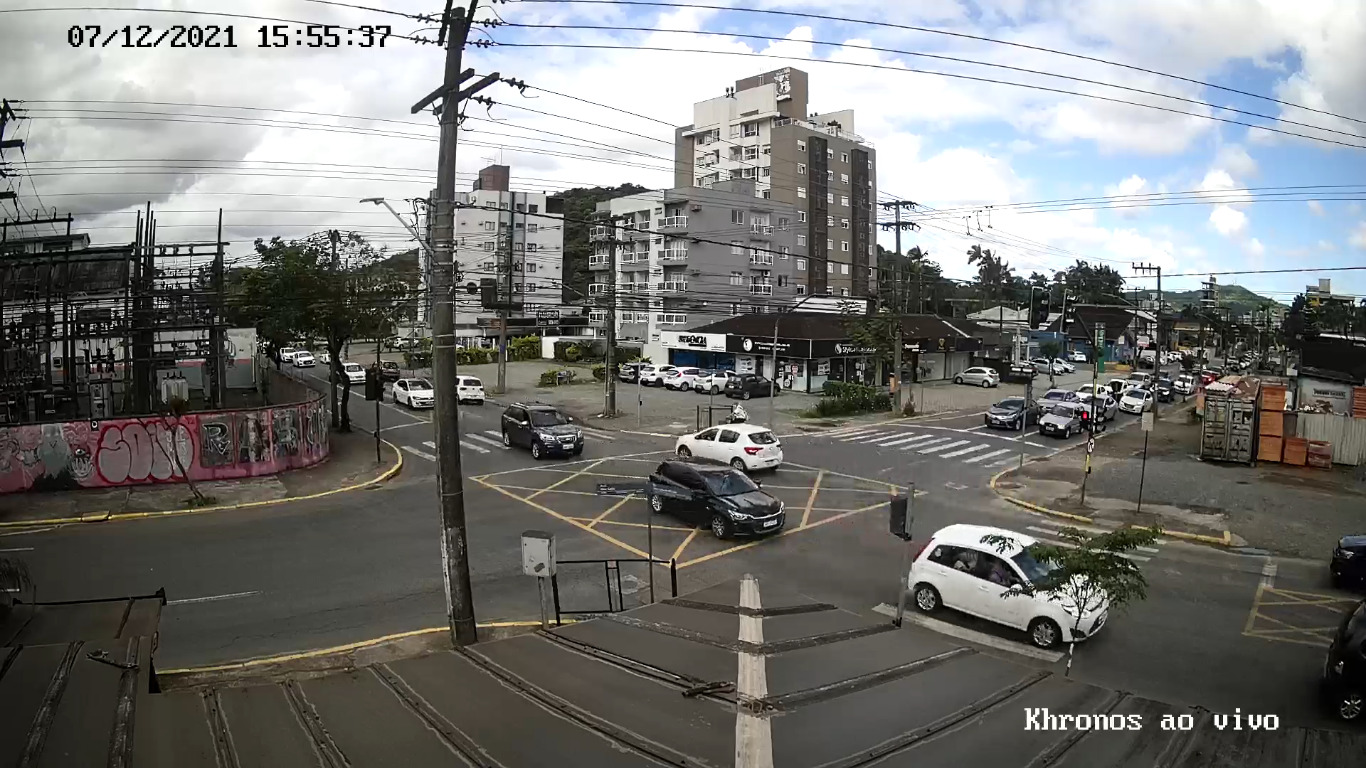car: (907, 523, 1108, 650), (648, 457, 786, 540), (677, 422, 783, 474)
